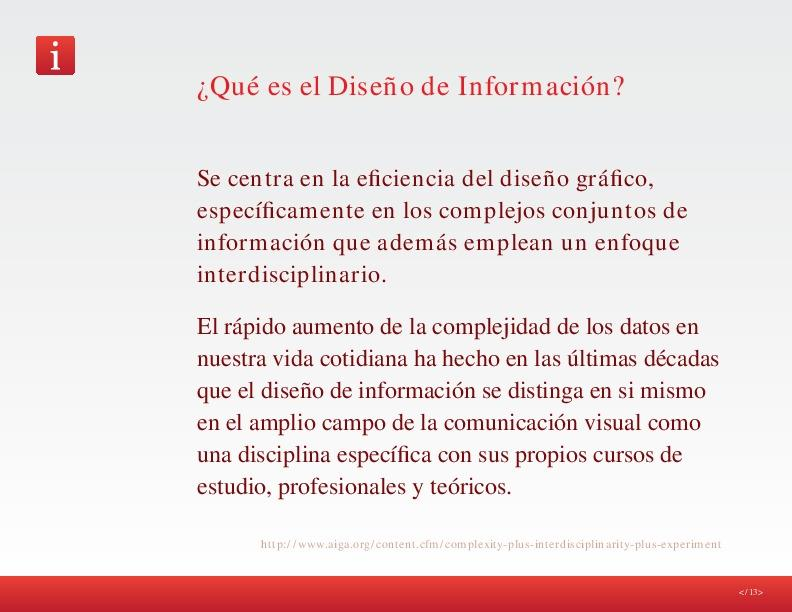paragraph: (187, 156, 737, 524)
title: (189, 62, 646, 124)
